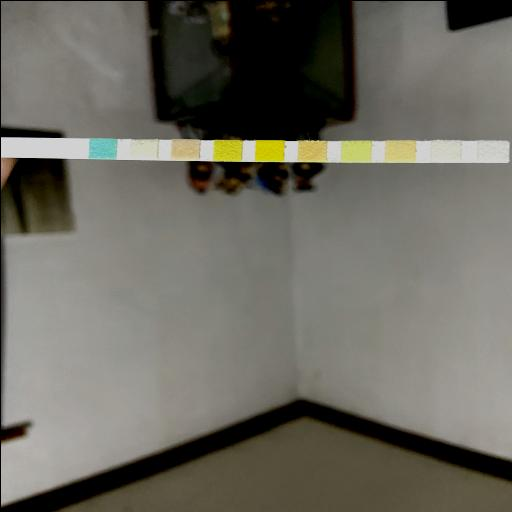Bilirubin: (130, 138, 156, 158)
Blood: (254, 140, 284, 160)
Glucose: (88, 138, 116, 158)
Ketone: (171, 139, 198, 159)
Leukocytes: (478, 140, 508, 162)
Nitrite: (430, 140, 460, 161)
Protein: (341, 140, 369, 162)
SpGravity: (212, 140, 242, 160)
Urobilinogen: (384, 140, 414, 162)
pH: (298, 139, 326, 161)
strip: (0, 135, 508, 162)
